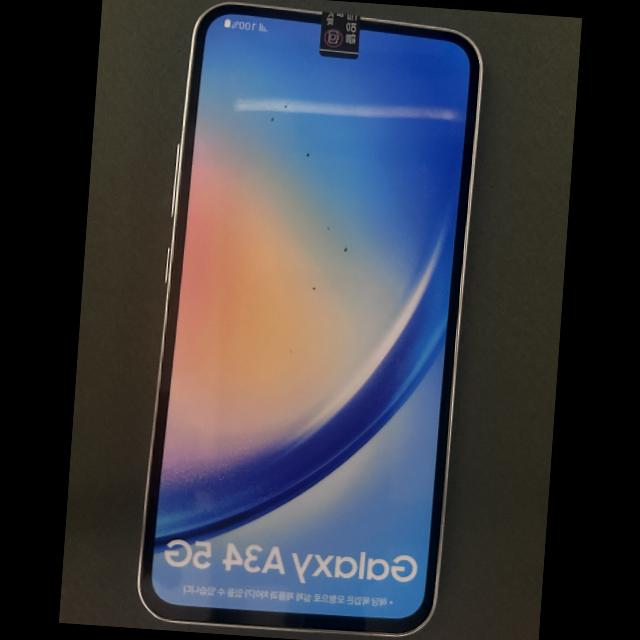phone: (136, 0, 483, 637)
sticker: (319, 11, 360, 59)
